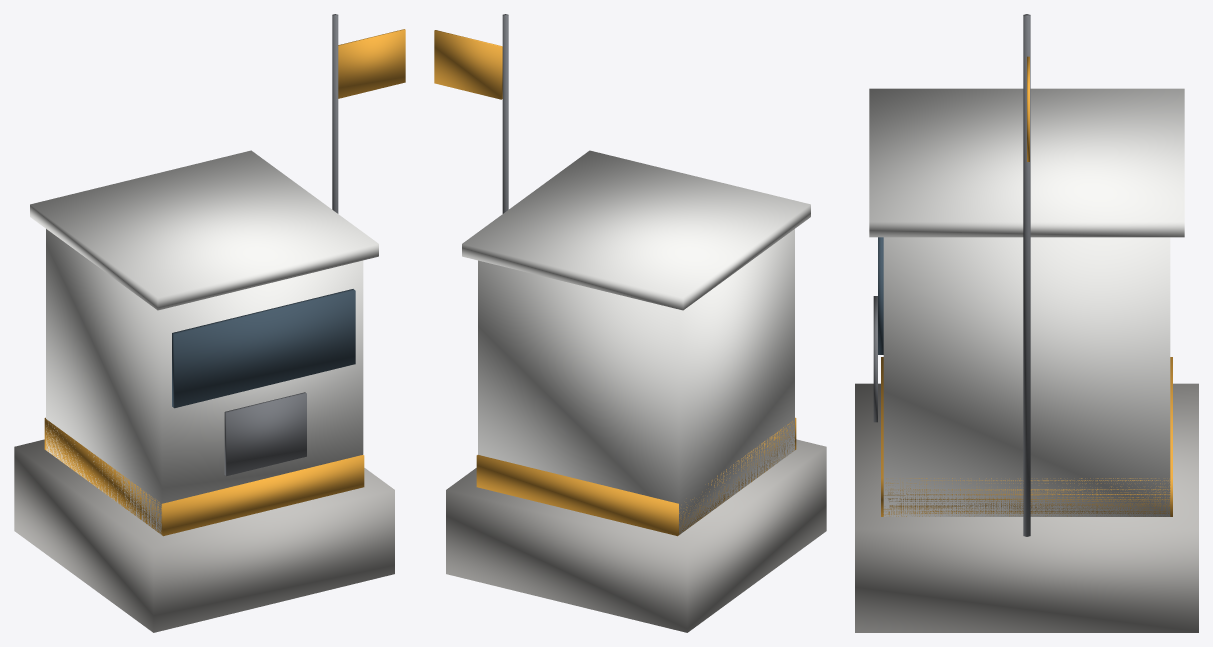
The model's file is marshal_post.glb.
3 renders of one model, left to right at view 1: azimuth 30°, elevation 25°; view 2: azimuth 150°, elevation 25°; view 3: azimuth 270°, elevation 25°, orthographic. The views are drawn at different scales.
Parts seen in each view (by area): view 1: marshal_post; view 2: marshal_post; view 3: marshal_post.
Boxes of the visible parts, box(x1,y1,x2,y2) form: marshal_post: box(14, 14, 405, 632); marshal_post: box(434, 14, 826, 632); marshal_post: box(855, 14, 1198, 632).
Size of the model in its own units: 3.2 by 4.8 by 2.4.
